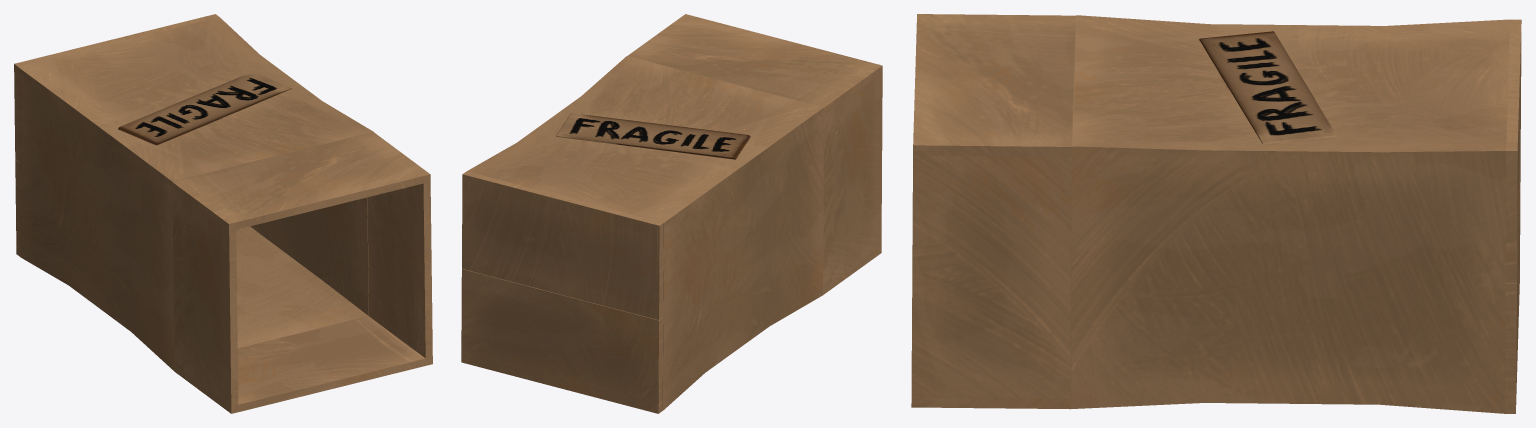
File: SM_Carton2Disappear.fbx
3 renders of one model, left to right at view 1: azimuth 30°, elevation 25°; view 2: azimuth 150°, elevation 25°; view 3: azimuth 270°, elevation 25°, orthographic. The views are drawn at different scales.
Visible parts, largest first — view 1: SM_Carton2; view 2: SM_Carton2; view 3: SM_Carton2.
Boxes of the visible parts, x1=… form: SM_Carton2: x1=14, y1=14, x2=432, y2=413; SM_Carton2: x1=461, y1=14, x2=882, y2=413; SM_Carton2: x1=911, y1=14, x2=1521, y2=413.
Size of the model in its own units: 143 by 128 by 265.
